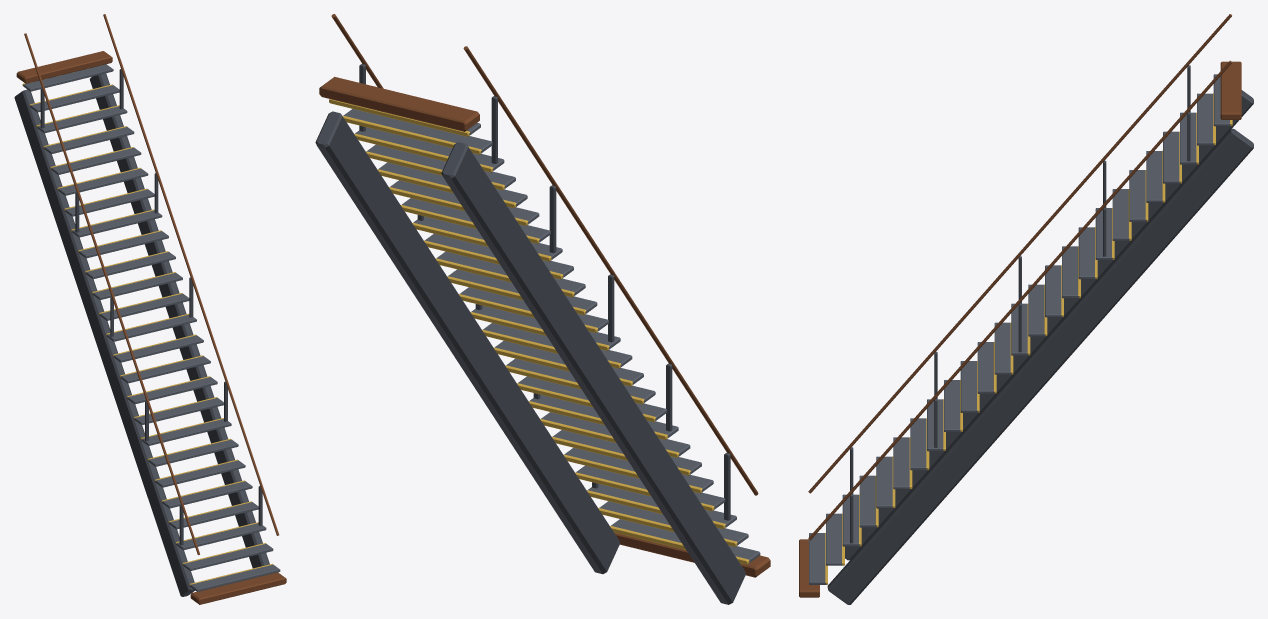
Rendered from spire_fireescape_flight.glb.
3 views of the same model, side by side, from view 1: azimuth 30°, elevation 25°; view 2: azimuth 150°, elevation 25°; view 3: azimuth 270°, elevation 25° (orthographic). The views are drawn at different scales.
Visible parts, largest first — view 1: flight_stringer-1, flight_stringer1, flight_rail1, flight_rail-1, flight_anchor10, flight_anchor0, flight_tread0, flight_tread1, flight_tread5, flight_tread4, flight_tread6, flight_tread14 (+19 smaller); view 2: flight_stringer1, flight_stringer-1, flight_anchor10, flight_rail-1, flight_tread23, flight_anchor0, flight_tread22, flight_tread21, flight_tread8, flight_tread15, flight_tread14, flight_tread18 (+20 smaller); view 3: flight_stringer1, flight_stringer-1, flight_rail-1, flight_rail1, flight_anchor10, flight_tread6, flight_tread14, flight_tread13, flight_tread5, flight_tread21, flight_tread4, flight_tread11 (+18 smaller).
Part boxes in pixels (bbox=[...]): flight_stringer-1: bbox=[14, 89, 194, 596]; flight_stringer1: bbox=[89, 73, 269, 568]; flight_rail1: bbox=[103, 14, 279, 535]; flight_rail-1: bbox=[24, 33, 199, 555]; flight_anchor10: bbox=[16, 51, 112, 83]; flight_anchor0: bbox=[190, 572, 286, 604]; flight_tread0: bbox=[190, 564, 280, 591]; flight_tread1: bbox=[183, 543, 273, 570]; flight_tread5: bbox=[155, 460, 245, 487]; flight_tread4: bbox=[162, 481, 252, 508]; flight_tread6: bbox=[148, 439, 238, 466]; flight_tread14: bbox=[92, 272, 182, 299]; flight_stringer1: bbox=[315, 111, 620, 574]; flight_stringer-1: bbox=[441, 142, 745, 604]; flight_anchor10: bbox=[319, 76, 479, 131]; flight_rail-1: bbox=[463, 46, 758, 495]; flight_tread23: bbox=[343, 109, 492, 153]; flight_anchor0: bbox=[614, 532, 770, 577]; flight_tread22: bbox=[355, 127, 504, 170]; flight_tread21: bbox=[367, 144, 515, 189]; flight_tread8: bbox=[518, 376, 667, 420]; flight_tread15: bbox=[437, 251, 585, 296]; flight_tread14: bbox=[448, 269, 597, 313]; flight_tread18: bbox=[402, 198, 550, 242]; flight_stringer1: bbox=[827, 128, 1253, 604]; flight_stringer-1: bbox=[845, 90, 1253, 560]; flight_rail-1: bbox=[808, 14, 1231, 493]; flight_rail1: bbox=[808, 60, 1232, 540]; flight_anchor10: bbox=[1220, 61, 1241, 119]; flight_tread6: bbox=[910, 418, 927, 470]; flight_tread14: bbox=[1045, 265, 1062, 317]; flight_tread13: bbox=[1028, 284, 1045, 336]; flight_tread5: bbox=[893, 437, 910, 489]; flight_tread21: bbox=[1163, 131, 1180, 183]; flight_tread4: bbox=[876, 456, 893, 508]; flight_tread11: bbox=[994, 322, 1011, 374].
Bounding box in the file's own units: 2.34 × 11.39 × 8.63.
